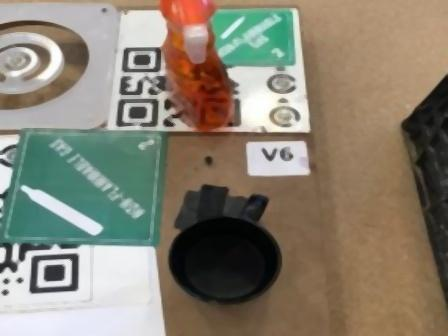non-flammable-gas: (3, 123, 162, 245), (205, 2, 297, 66)
